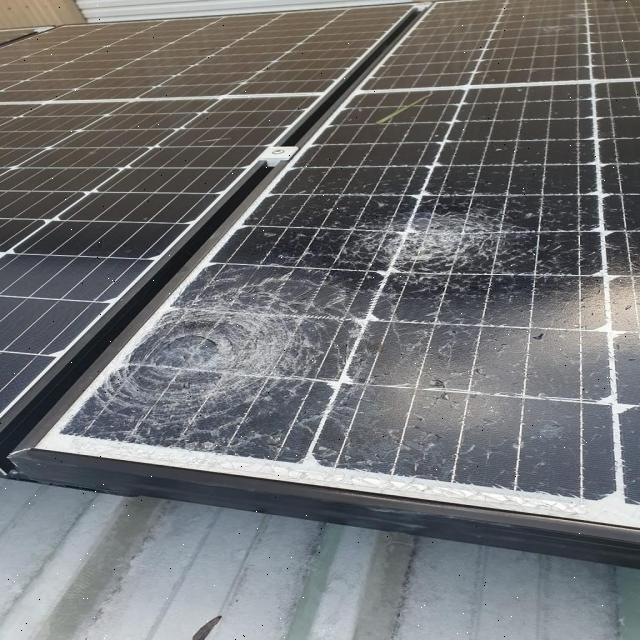Anomaly Solar Panel: (43, 1, 640, 520)
Structural Damage: (42, 253, 380, 487), (329, 200, 547, 303)
